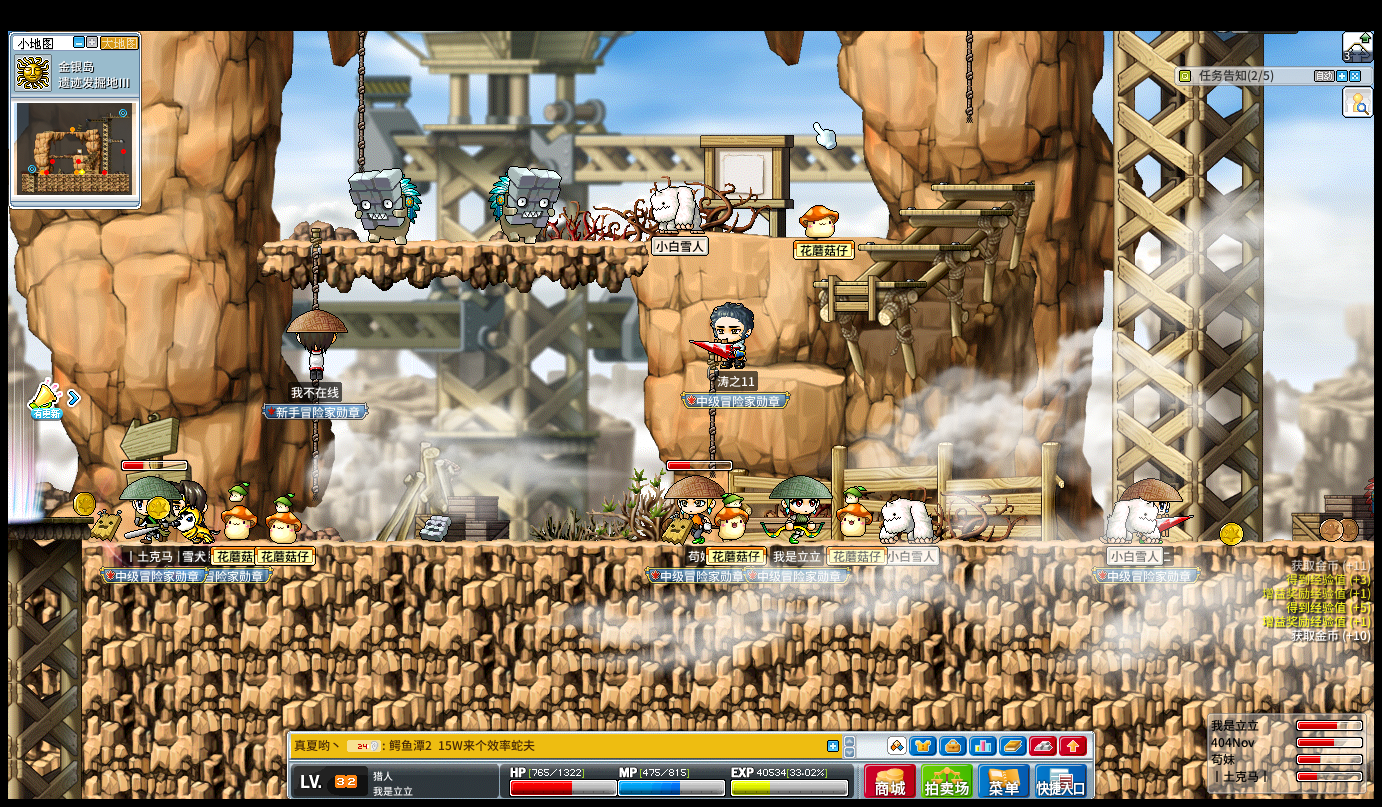floor: (82, 537, 1373, 557), (258, 238, 651, 251), (752, 363, 847, 384), (898, 205, 1015, 217), (809, 279, 928, 289), (754, 233, 892, 240), (3, 516, 94, 526), (899, 207, 1012, 215), (929, 184, 1034, 192), (861, 243, 979, 250)
monster: (489, 165, 564, 244), (346, 167, 420, 243)
rope: (354, 32, 365, 173), (964, 31, 976, 122), (307, 225, 319, 308), (311, 420, 320, 502), (708, 405, 717, 468)
